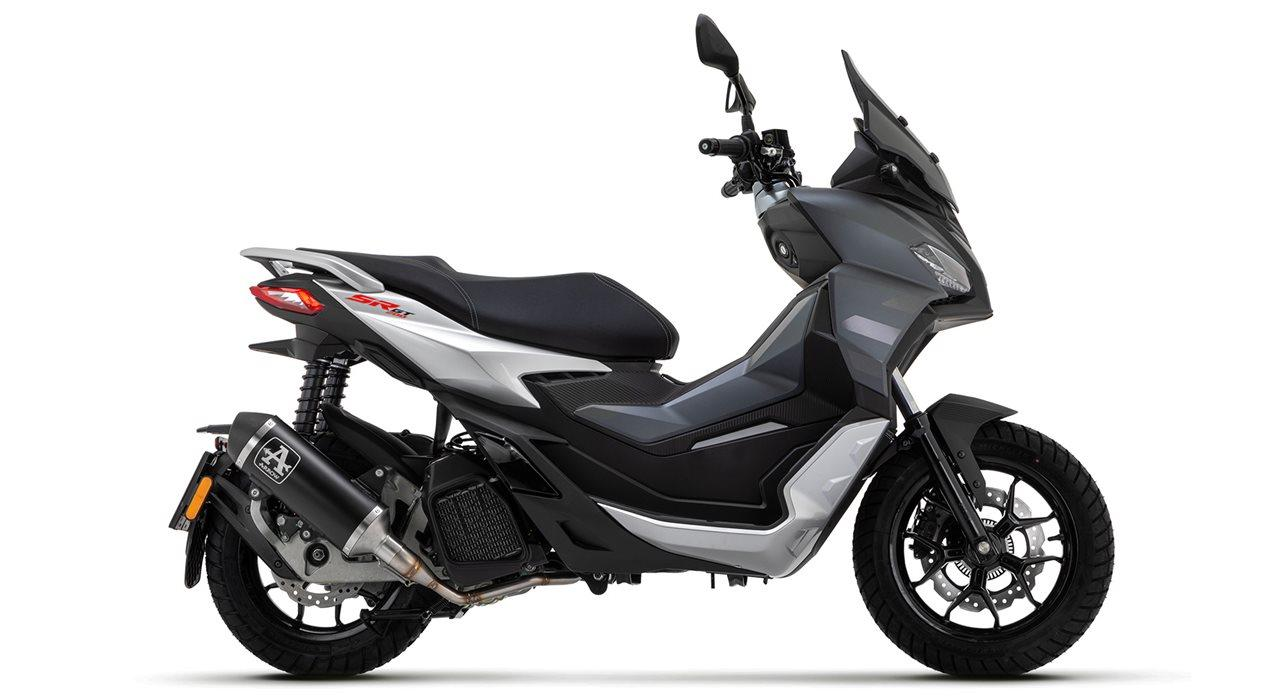engine-chasis: (423, 279, 890, 596), (291, 349, 367, 443), (359, 596, 474, 626)
exhaust: (227, 411, 586, 608)
frontside: (779, 49, 1019, 578)
handlebar: (695, 13, 803, 223), (830, 116, 888, 188)
motorbike: (169, 13, 1115, 677)
rearside: (239, 246, 613, 409), (167, 424, 420, 589), (319, 402, 496, 588)
seat: (293, 247, 681, 361)
tank: (661, 188, 843, 405)
wheel: (852, 419, 1116, 679), (205, 508, 440, 679)
